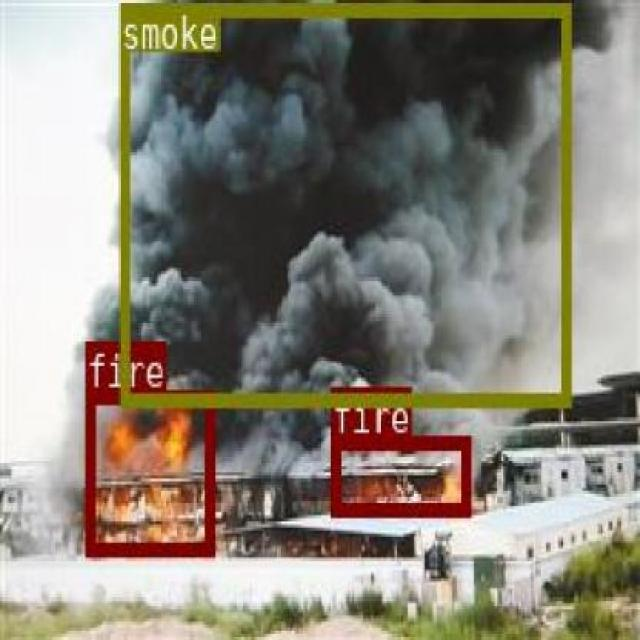fire: (84, 389, 213, 554), (330, 436, 468, 514)
smoke: (117, 0, 568, 406)
